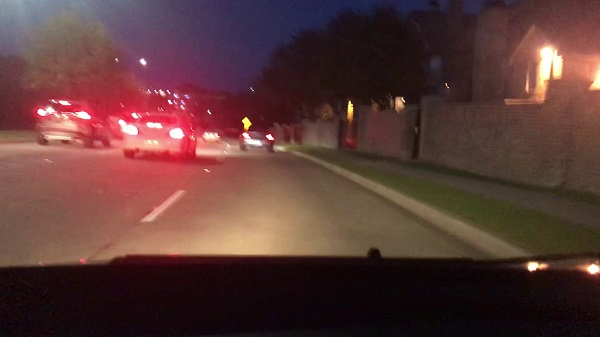car: (32, 95, 113, 147), (124, 115, 198, 160), (238, 126, 276, 152)
